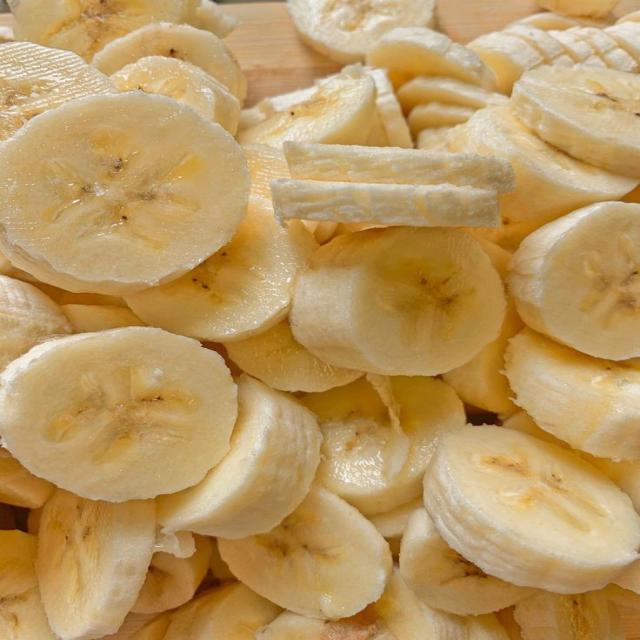banana slice: (0, 92, 249, 295), (0, 327, 236, 501), (425, 426, 639, 593), (290, 228, 506, 375), (127, 197, 316, 341), (157, 375, 321, 538), (447, 107, 635, 248), (219, 487, 392, 619), (302, 377, 465, 515), (509, 202, 639, 360), (36, 490, 155, 639), (506, 329, 639, 459), (256, 571, 502, 639), (510, 67, 639, 178), (400, 509, 533, 615), (92, 23, 246, 101), (283, 142, 515, 192), (0, 42, 116, 140), (272, 179, 500, 228), (238, 66, 377, 146), (9, 0, 189, 60), (111, 56, 239, 135), (226, 320, 362, 392), (287, 0, 435, 63), (443, 298, 523, 414), (132, 582, 281, 639), (367, 27, 493, 89), (0, 276, 71, 369), (0, 531, 59, 639), (132, 537, 211, 613), (239, 75, 335, 131), (514, 592, 626, 639), (468, 32, 545, 94), (398, 76, 507, 112), (364, 68, 413, 148), (367, 69, 413, 148), (255, 611, 379, 639), (368, 496, 423, 559), (0, 447, 53, 509), (567, 27, 639, 72), (0, 587, 59, 639), (29, 277, 126, 307), (588, 457, 639, 512), (0, 530, 37, 601), (502, 411, 571, 449), (501, 25, 566, 65), (242, 145, 289, 200), (61, 305, 145, 333), (407, 102, 475, 136), (467, 229, 512, 280), (188, 0, 239, 37), (514, 12, 613, 30), (550, 29, 597, 65), (605, 21, 639, 64), (538, 0, 619, 18), (154, 526, 195, 558), (465, 614, 509, 639), (210, 539, 235, 582), (130, 614, 170, 639), (495, 607, 522, 639), (614, 560, 639, 594), (416, 128, 450, 152), (0, 504, 18, 531), (27, 507, 42, 535), (580, 54, 607, 68), (616, 10, 640, 24), (0, 25, 14, 43)
